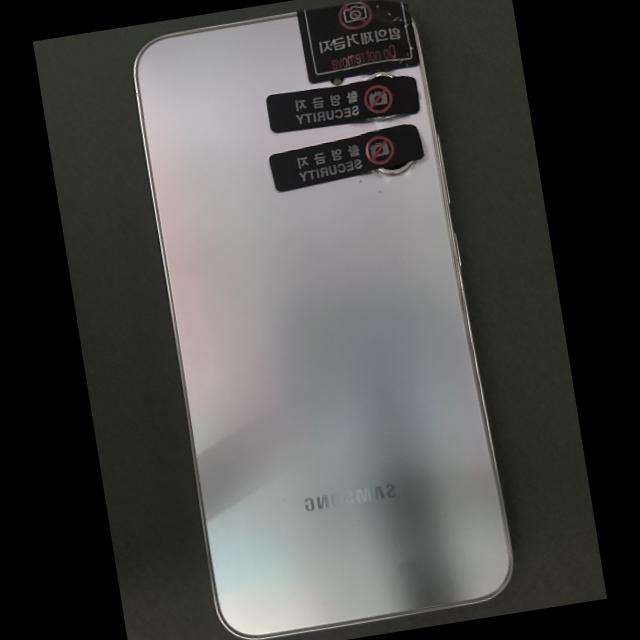lens: (378, 161, 411, 173), (368, 74, 393, 80)
phone: (133, 1, 515, 640)
sticker: (270, 124, 425, 191), (297, 0, 420, 84), (267, 75, 420, 133)
